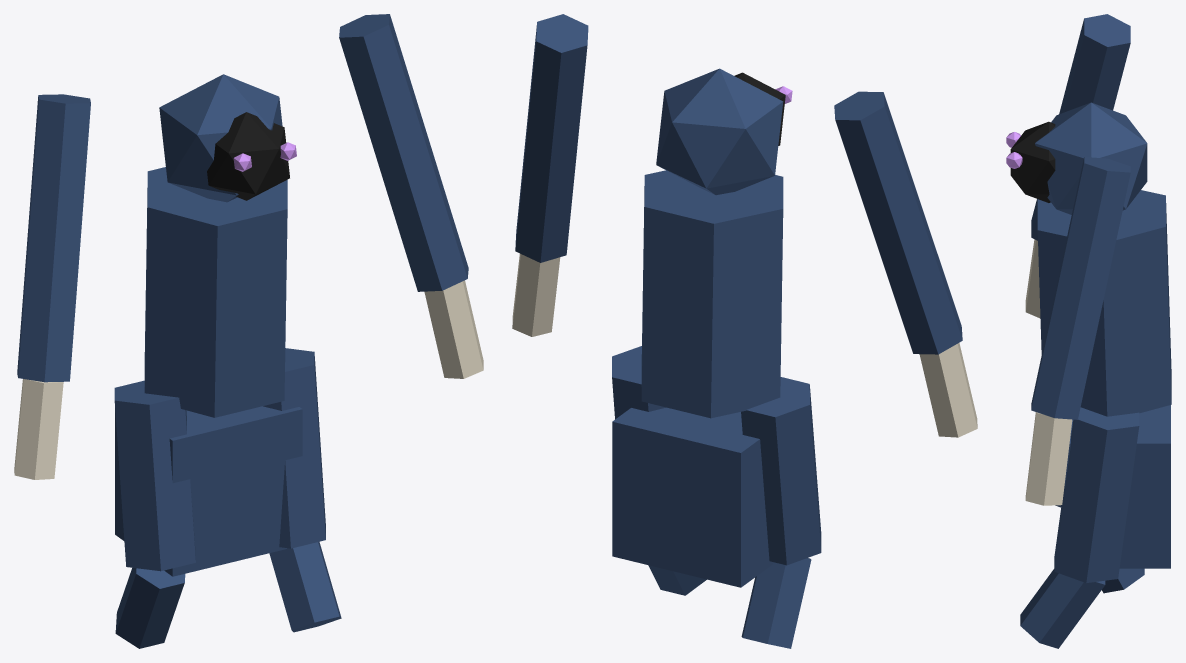
File: npcpose_wraith_walk_03.glb
3 renders of one model, left to right at view 1: azimuth 30°, elevation 25°; view 2: azimuth 150°, elevation 25°; view 3: azimuth 270°, elevation 25°, orthographic. The views are drawn at different scales.
Parts seen in each view (by area): view 1: npcpose; view 2: npcpose; view 3: npcpose.
Part boxes in pixels (x1,y1,x2,y2): npcpose: (14, 14, 483, 648); npcpose: (512, 14, 977, 648); npcpose: (1006, 14, 1171, 648).
Bounding box in the file's own units: 0.9388 × 1.1 × 0.3123.
